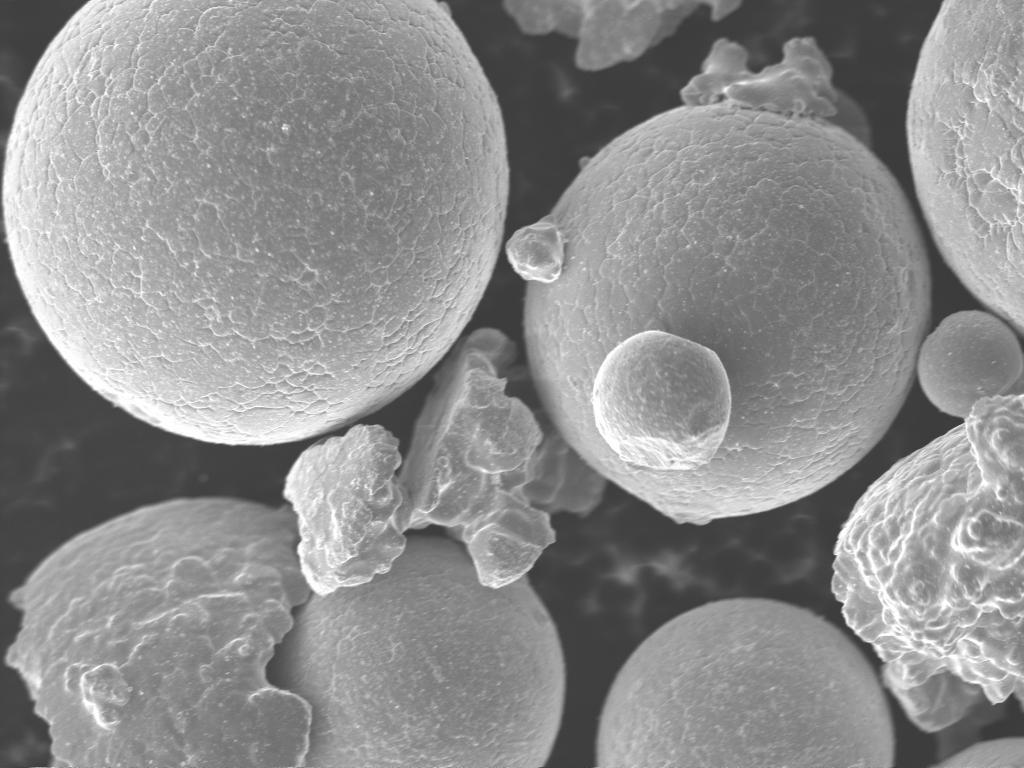Powder: (4, 2, 508, 443), (506, 38, 930, 523), (8, 498, 564, 765), (284, 328, 604, 593), (832, 394, 1024, 729), (596, 598, 894, 766), (906, 0, 1024, 334), (504, 1, 742, 70), (918, 310, 1024, 417)
